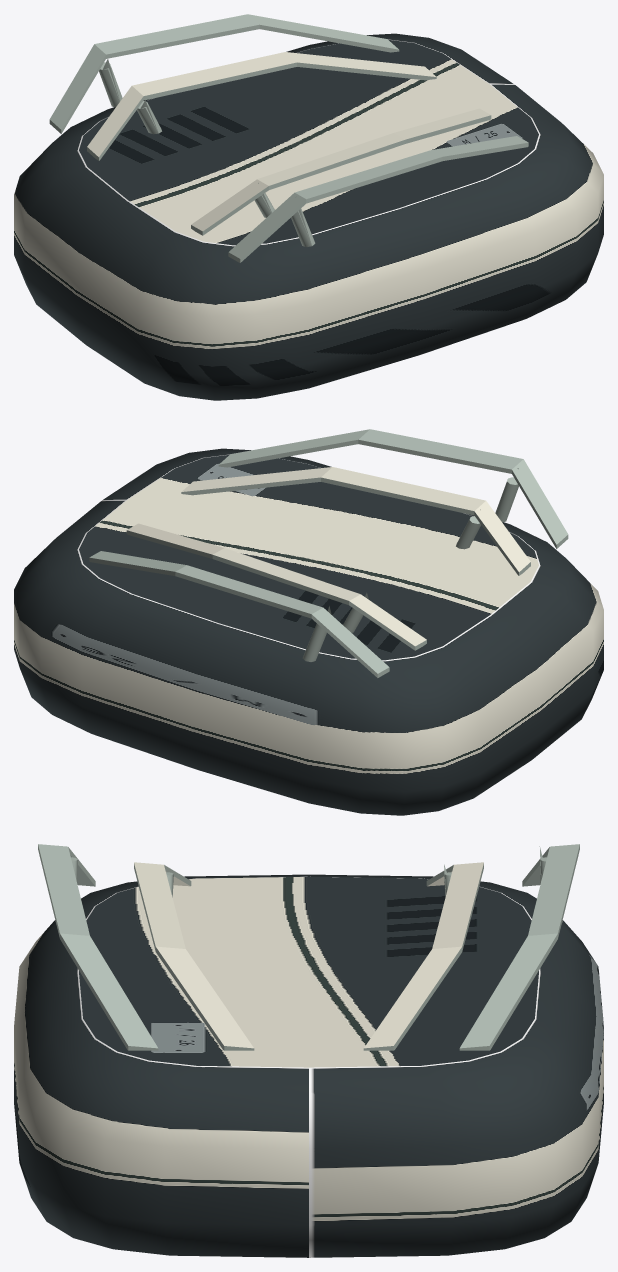
The model's file is MotorCowl_26_SSR_深緑・銀架.glb.
The picture shows the model from 3 angles, top to bottom: view 1: azimuth 30°, elevation 25°; view 2: azimuth 150°, elevation 25°; view 3: azimuth 270°, elevation 25°; orthographic projection. The views are drawn at different scales.
Visible parts, largest first — view 1: MotorCowl_26_SSR; view 2: MotorCowl_26_SSR; view 3: MotorCowl_26_SSR.
Part boxes in pixels (left/top/right/bottom): MotorCowl_26_SSR: left=14, top=14, right=603, bottom=400; MotorCowl_26_SSR: left=14, top=429, right=603, bottom=815; MotorCowl_26_SSR: left=14, top=844, right=603, bottom=1257.
Size of the model in its own units: 0.332 by 0.1423 by 0.286.
2 materials, 2 textured.
